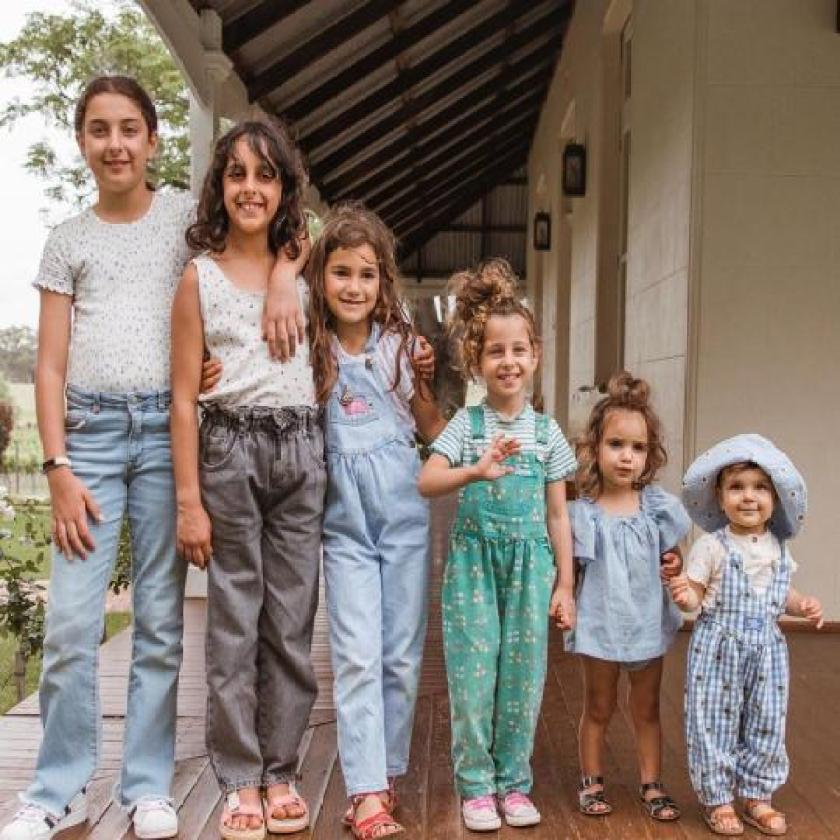Sin_casco: (302, 190, 404, 350), (571, 362, 670, 509), (204, 118, 302, 258), (454, 273, 548, 418), (67, 70, 167, 205)
